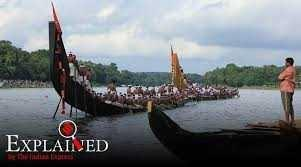kayak: (1, 0, 123, 162), (147, 99, 300, 162), (47, 1, 126, 118)
